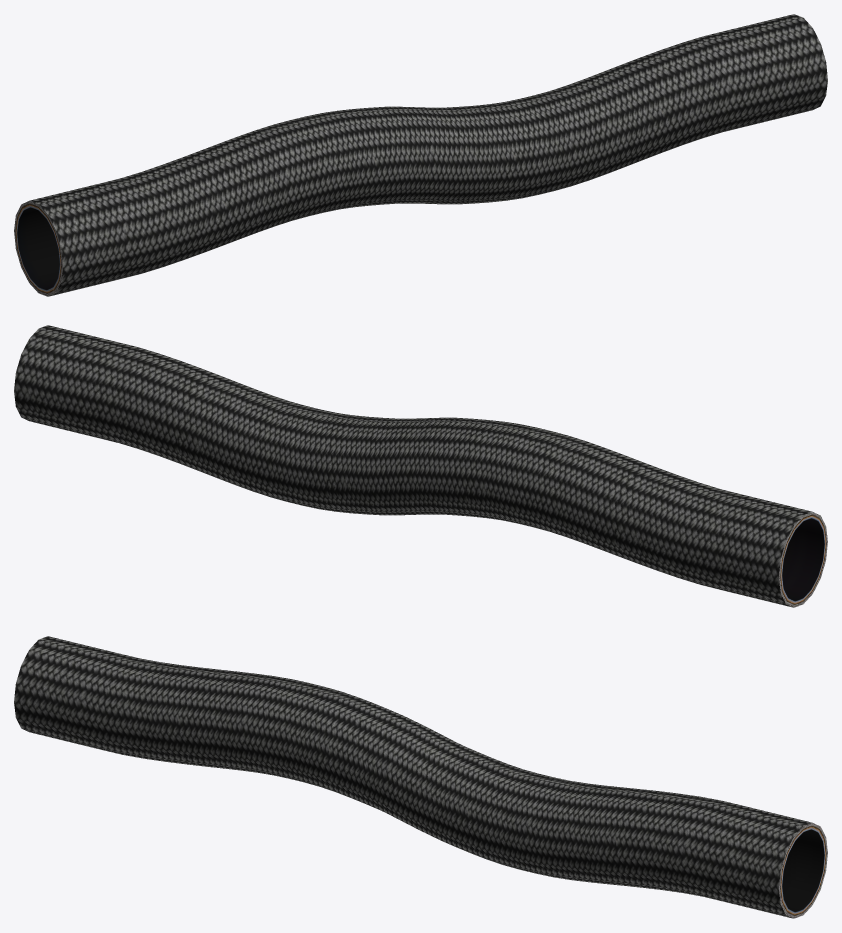
3 views of the same model, one above another, from view 1: azimuth 30°, elevation 25°; view 2: azimuth 150°, elevation 25°; view 3: azimuth 330°, elevation 25° (orthographic).
Visible parts, largest first — view 1: Aramid_Braid-32.001; view 2: Aramid_Braid-32.001; view 3: Aramid_Braid-32.001.
Part boxes in pixels (x1,y1,x2,y2): Aramid_Braid-32.001: (14,14,827,296); Aramid_Braid-32.001: (14,325,827,607); Aramid_Braid-32.001: (14,636,827,918).
Size of the model in its own units: 0.5453 by 0.0843 by 0.0607.
Materials: 2 (2 with a texture image).
